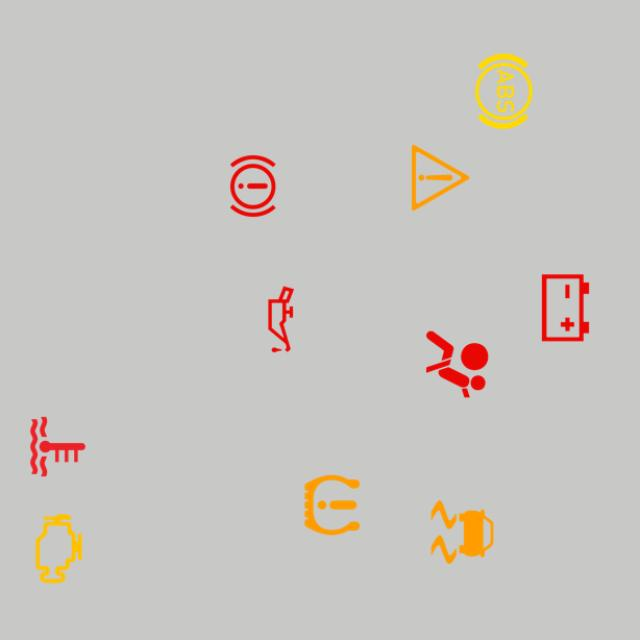Anti Lock Braking System: (463, 50, 545, 132)
Braking System Issue: (212, 145, 294, 227)
Charging System Issue: (524, 267, 607, 349)
Check Engine: (18, 508, 100, 590)
Electronic Stability Problem -ESP-: (421, 491, 504, 573)
Engine Overheating Warning Light: (17, 405, 99, 488)
Low Engine Oil Warning Light: (240, 278, 322, 361)
Low Tire Pressure Warning Light: (291, 464, 373, 546)
Master warning light: (399, 136, 482, 219)
SRS-Airbag: (416, 323, 498, 406)
